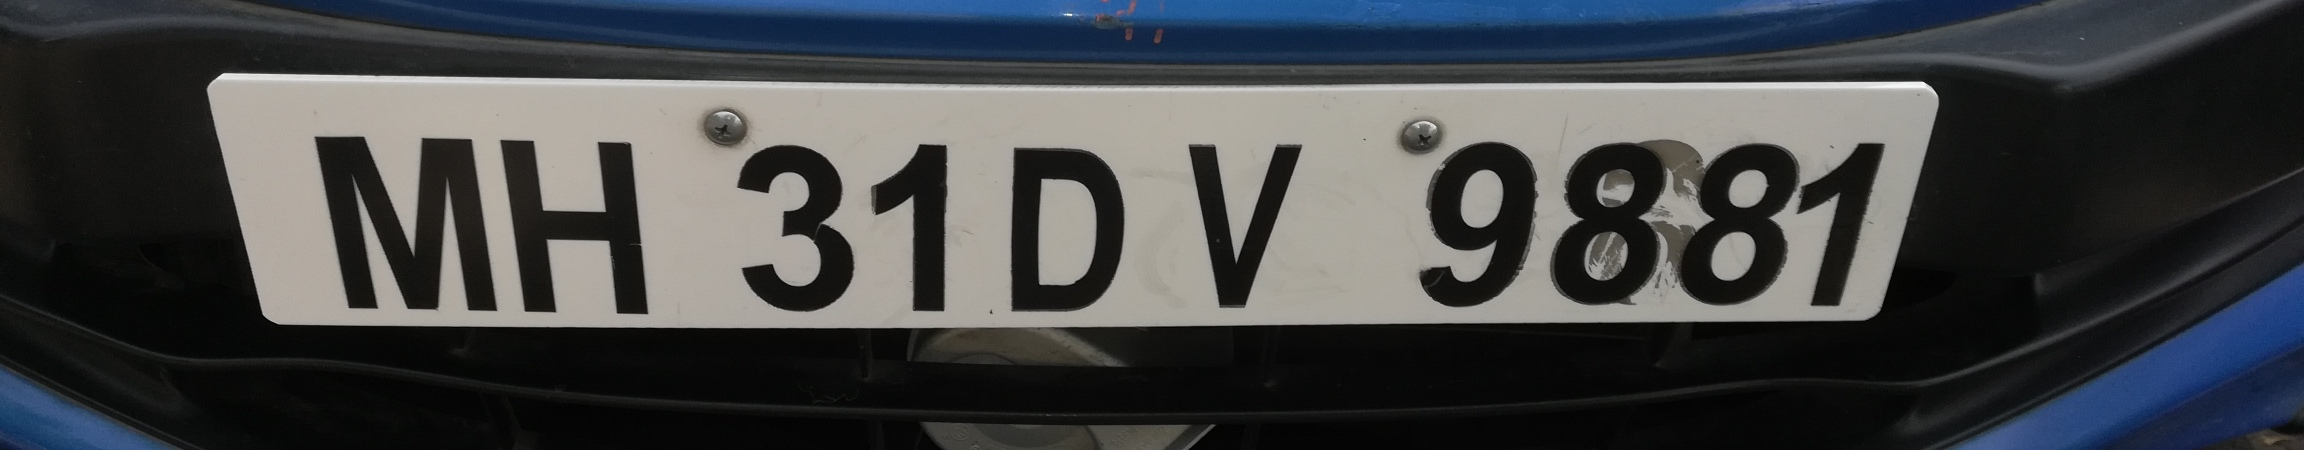numberplate: (203, 63, 1942, 331)
